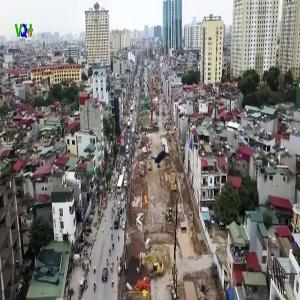drone: (142, 139, 179, 176)
